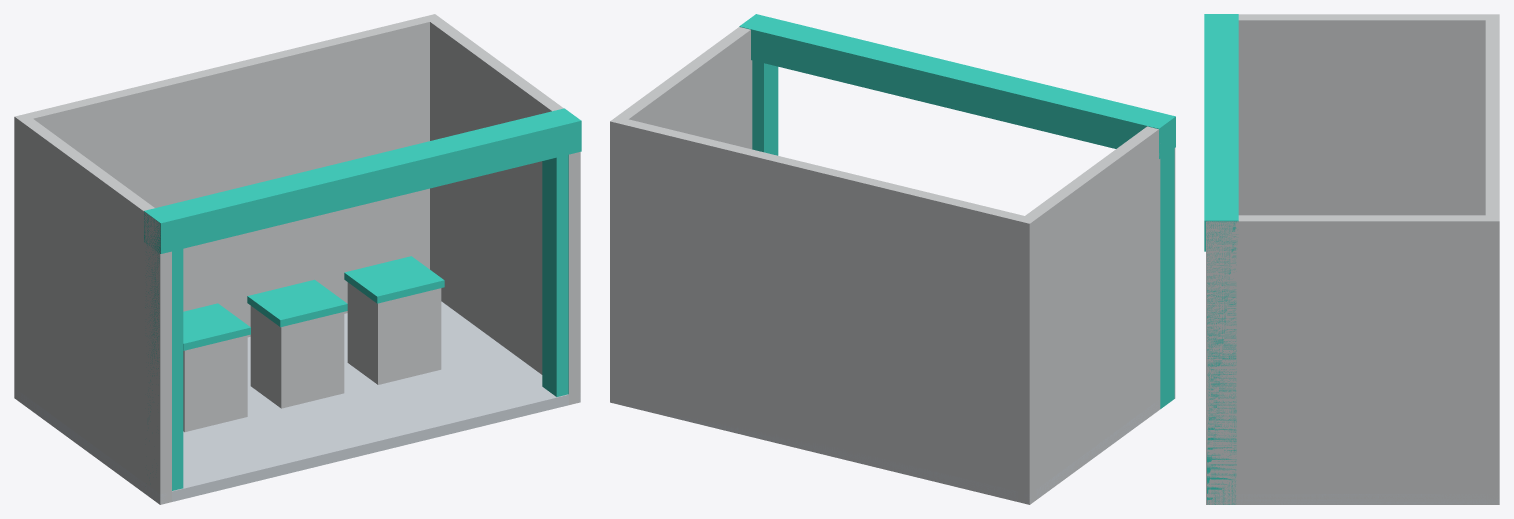
3 renders of one model, left to right at view 1: azimuth 30°, elevation 25°; view 2: azimuth 150°, elevation 25°; view 3: azimuth 270°, elevation 25°, orthographic.
Parts seen in each view (by area): view 1: Exhibition Booth Concept; view 2: Exhibition Booth Concept; view 3: Exhibition Booth Concept.
Part boxes in pixels (left/top/right/bottom): Exhibition Booth Concept: left=14, top=14, right=581, bottom=504; Exhibition Booth Concept: left=610, top=14, right=1175, bottom=504; Exhibition Booth Concept: left=1204, top=14, right=1499, bottom=504.
Bounding box in the file's own units: 5 × 3.2 × 3.01.
